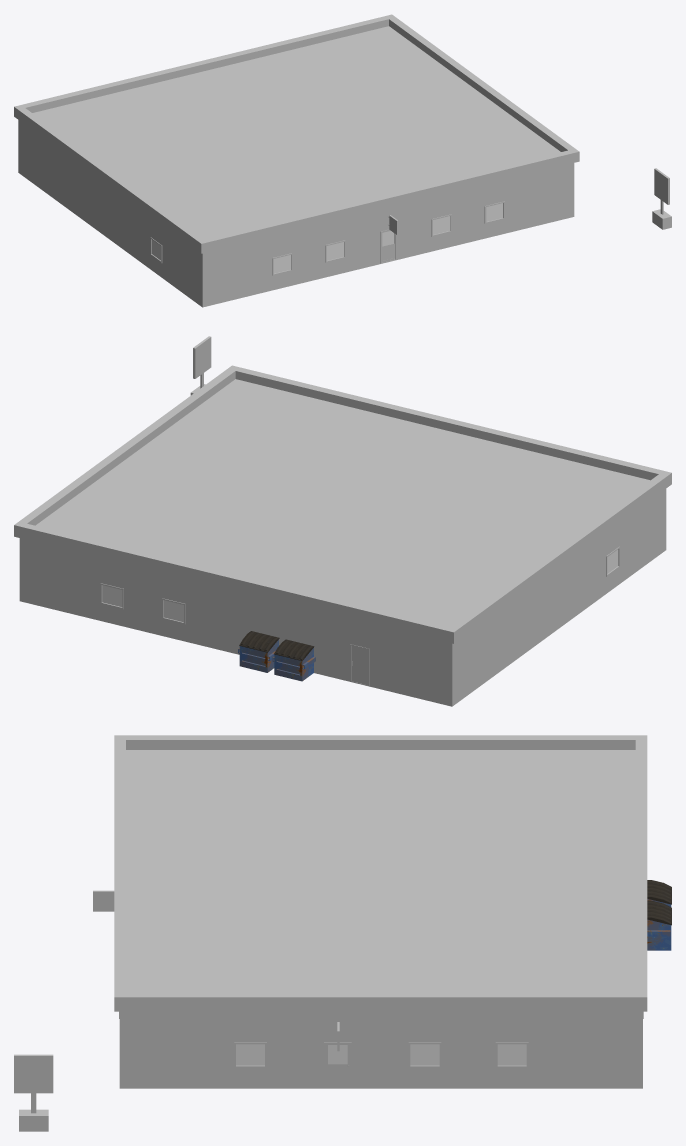
Rendered from SuperBurger.fbx.
3 views of the same model, one above another, from view 1: azimuth 30°, elevation 25°; view 2: azimuth 150°, elevation 25°; view 3: azimuth 270°, elevation 25° (orthographic). The views are drawn at different scales.
Visible parts, largest first — view 1: BergerRoof5.002, BurgerSuper, anshlag, BurgerFloor; view 2: BergerRoof5.002, BurgerSuper, DumpsterCap1.001, DumpsterCap1.002, BurgerFloor, anshlag, SMdoor2.010; view 3: BergerRoof5.002, BurgerSuper, anshlag, DumpsterCap1.002, BurgerFloor, DoorsV.013, Steklo.012, Steklo.013, Steklo.011.
Boxes of the visible parts, x1,y1,x2,y2 form: BergerRoof5.002: (14, 14, 579, 253); BurgerSuper: (18, 120, 574, 306); anshlag: (652, 168, 671, 229); BurgerFloor: (18, 172, 574, 307); BergerRoof5.002: (14, 365, 671, 643); BurgerSuper: (19, 489, 666, 705); DumpsterCap1.001: (272, 639, 315, 681); DumpsterCap1.002: (238, 631, 279, 672); BurgerFloor: (19, 549, 666, 706); anshlag: (190, 336, 211, 395); SMdoor2.010: (351, 646, 367, 684); BergerRoof5.002: (114, 735, 647, 1011); BurgerSuper: (119, 1011, 643, 1087); anshlag: (14, 1054, 53, 1131); DumpsterCap1.002: (647, 900, 671, 950); BurgerFloor: (119, 1087, 642, 1088); DoorsV.013: (326, 1044, 349, 1087); Steklo.012: (410, 1044, 439, 1065); Steklo.013: (497, 1044, 526, 1065); Steklo.011: (236, 1044, 264, 1065).
Size of the model in its own units: 3289 by 473 by 3018.
